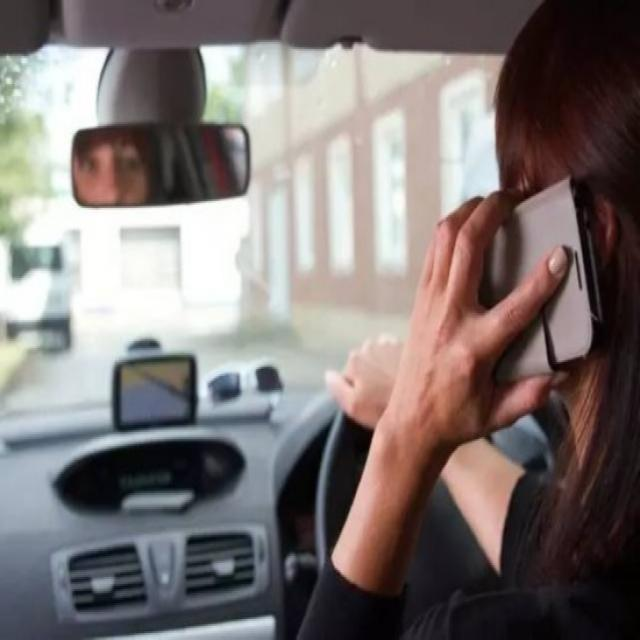phone: (397, 156, 606, 454)
